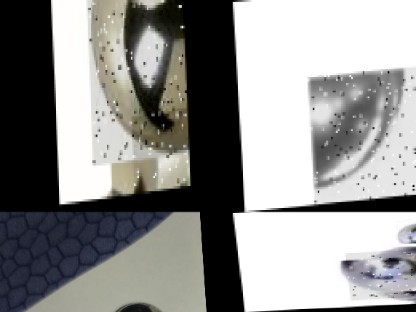ironball: (86, 0, 187, 166), (306, 68, 415, 206), (130, 111, 188, 197), (343, 250, 415, 300)
